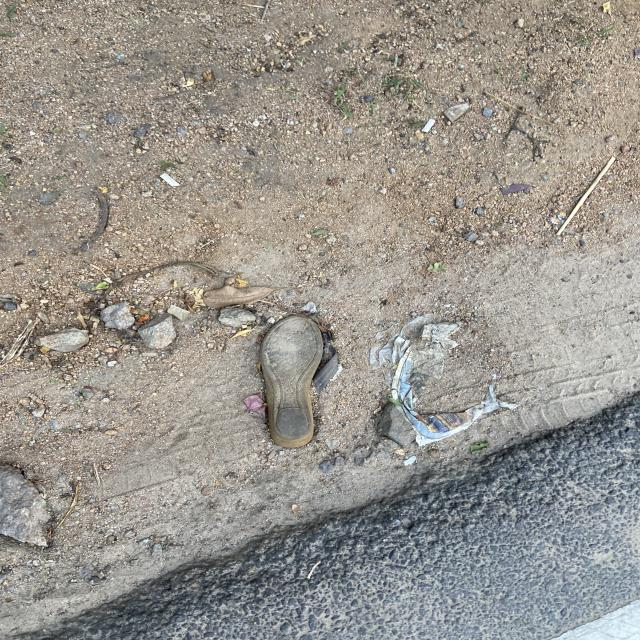other: (259, 315, 323, 448)
